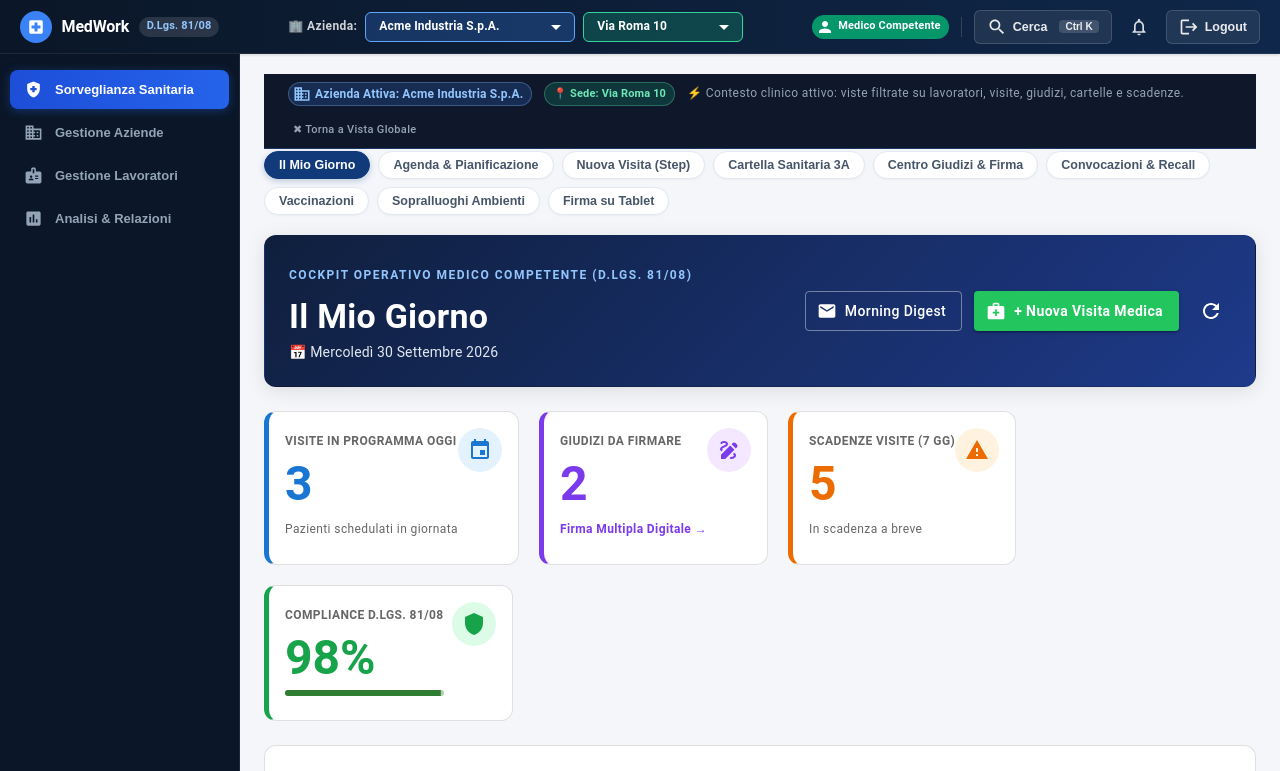
Test case: App shell and navigation › navigates to Gestione Lavoratori as Doctor, mounts WorkersCenter and opens Nuovo Lavoratore modal
# Click Gestione Lavoratori in sidebar
Click the button "Gestione Lavoratori".
click(120, 176)  # box [10,156,229,195]
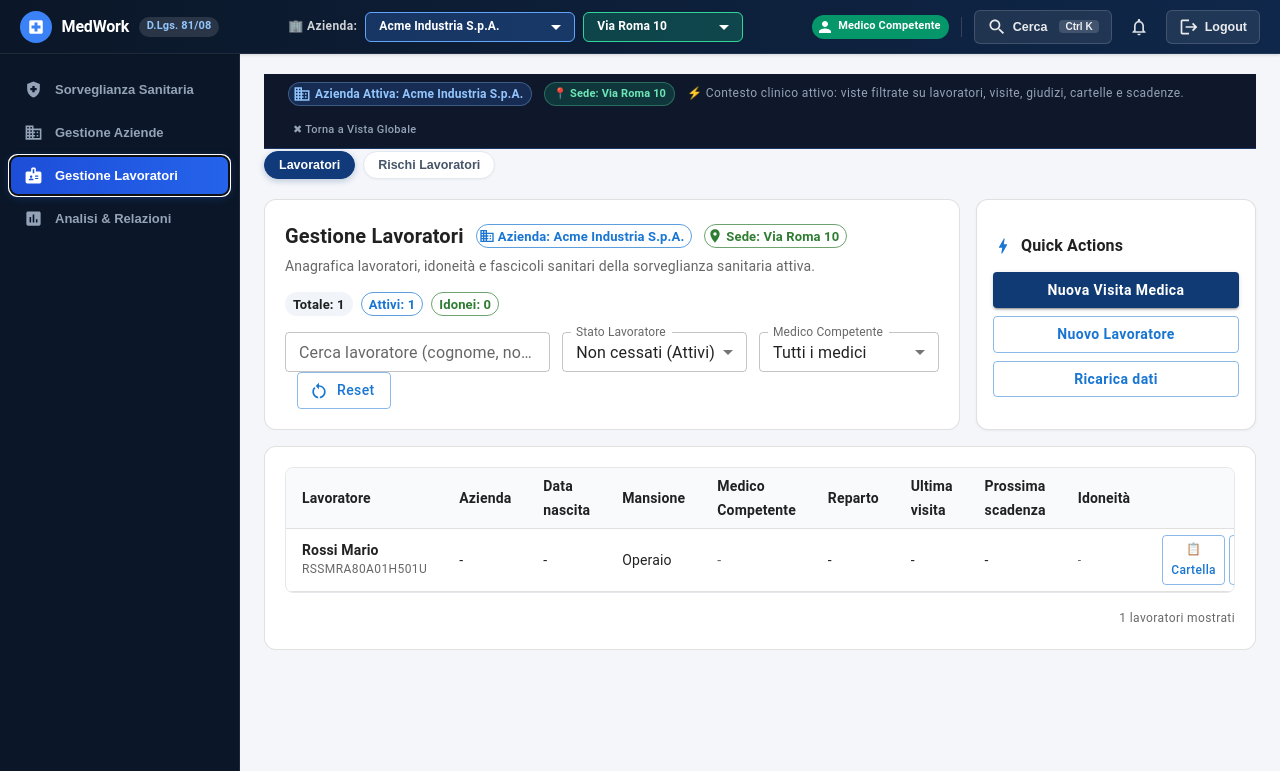
Now the text "Anagrafica lavoratori, idoneità e fascicoli sanitari" is shown, box [285,258,815,274]
Now the text "Rossi Mario" is shown, box [302,542,379,558]
# Click Nuovo Lavoratore button
Click the button "Nuovo Lavoratore".
click(1116, 335)  # box [993,316,1239,353]
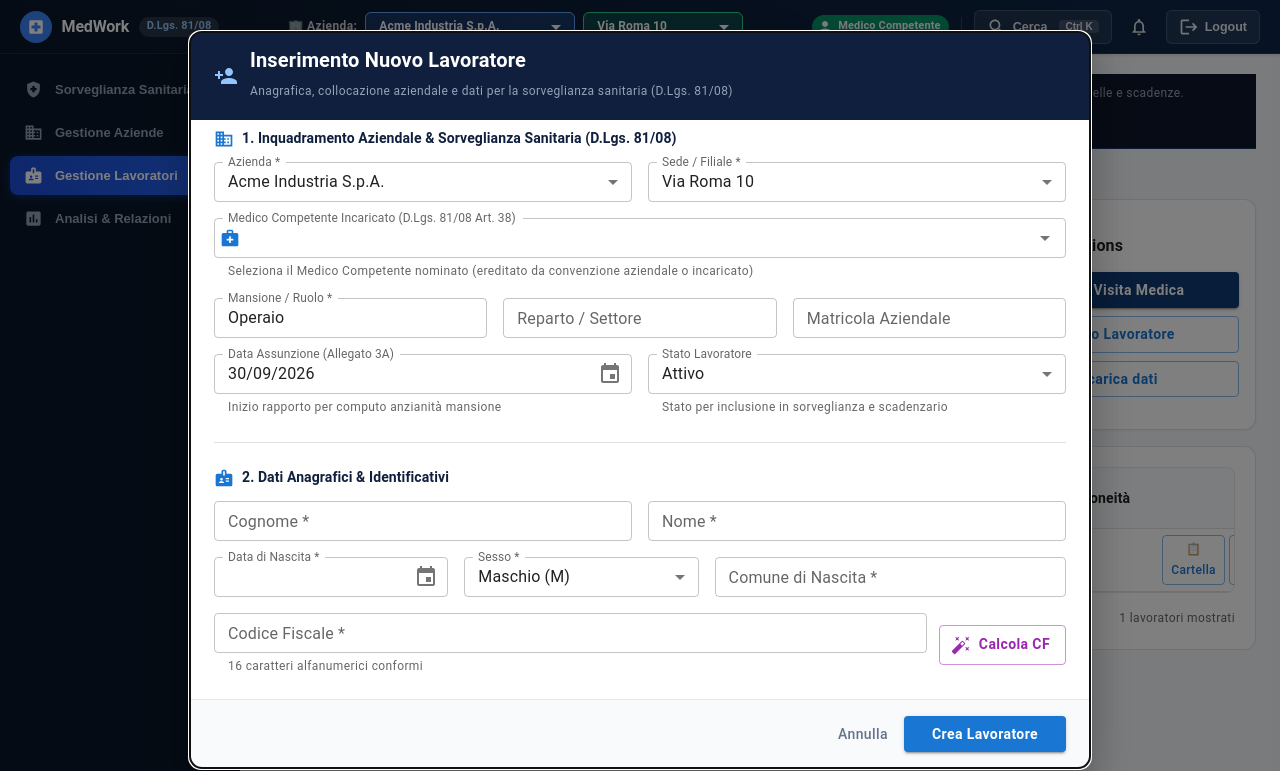
Now the heading "Inserimento Nuovo Lavoratore" is shown, box [250,48,526,72]
Now the button "Calcola CF" is shown, box [939,625,1066,665]
